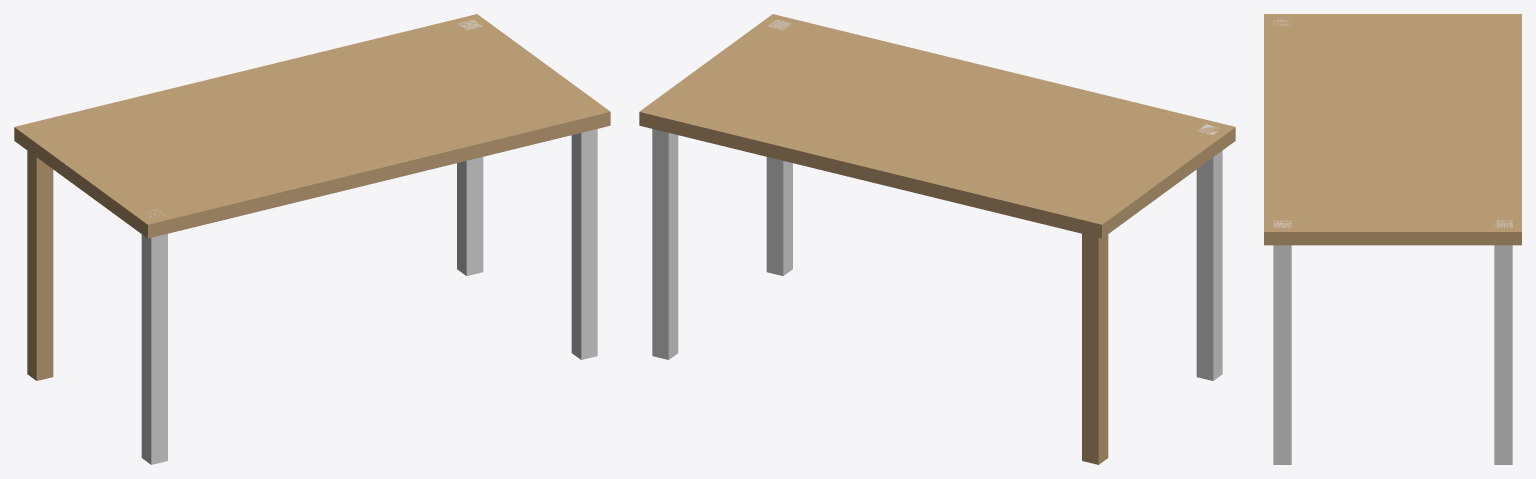
The picture shows the model from 3 angles, left to right: view 1: azimuth 30°, elevation 25°; view 2: azimuth 150°, elevation 25°; view 3: azimuth 270°, elevation 25°; orthographic projection. The views are drawn at different scales.
Visible parts, largest first — view 1: desk-top, desk-legs; view 2: desk-top, desk-legs; view 3: desk-top, desk-legs.
Part boxes in pixels (x1,y1,x2,y2): desk-top: [14, 14, 610, 238]; desk-legs: [27, 20, 597, 464]; desk-top: [639, 14, 1235, 238]; desk-legs: [652, 20, 1222, 464]; desk-top: [1264, 14, 1521, 245]; desk-legs: [1273, 18, 1512, 464].
Bounding box in the file's own units: 1.4 × 0.71 × 0.7.
